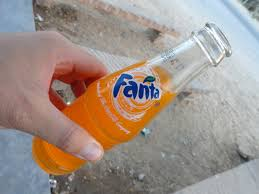fanta: (33, 40, 199, 178)
